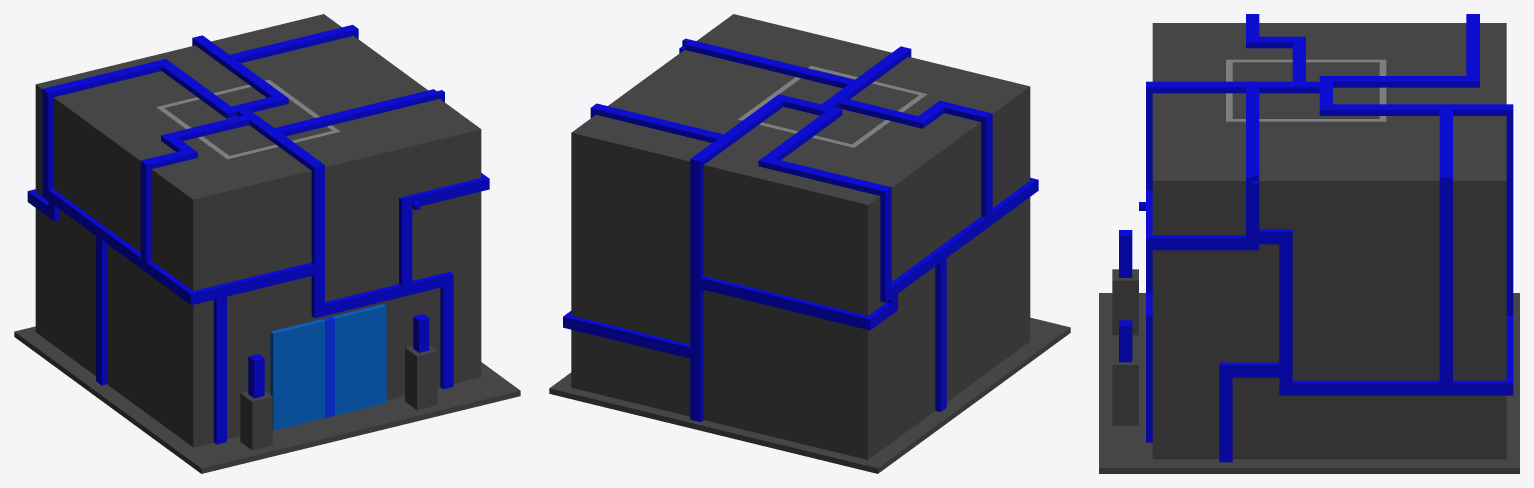
Rendered from CommCenter.obj.
The picture shows the model from 3 angles, left to right: view 1: azimuth 30°, elevation 25°; view 2: azimuth 150°, elevation 25°; view 3: azimuth 270°, elevation 25°; orthographic projection. The views are drawn at different scales.
Bounding box in the file's own units: 6.2 × 4.8 × 6.3.
Materials: 1 (1 with a texture image).
